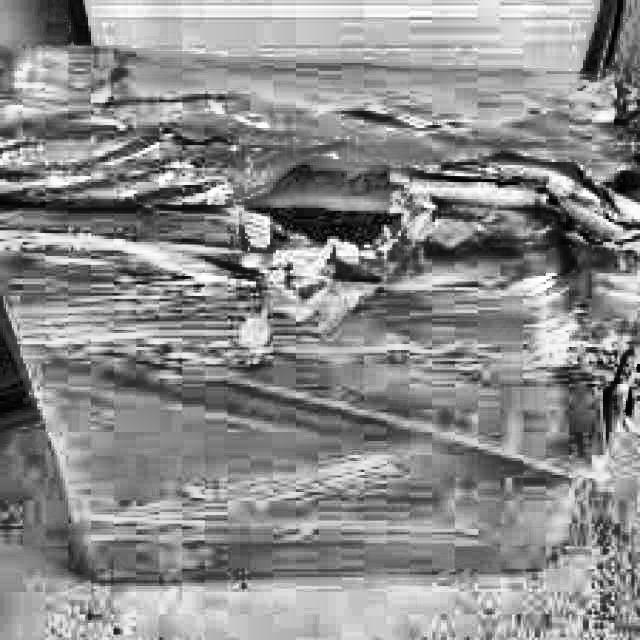box: (0, 34, 639, 586)
hole: (210, 137, 424, 295)
